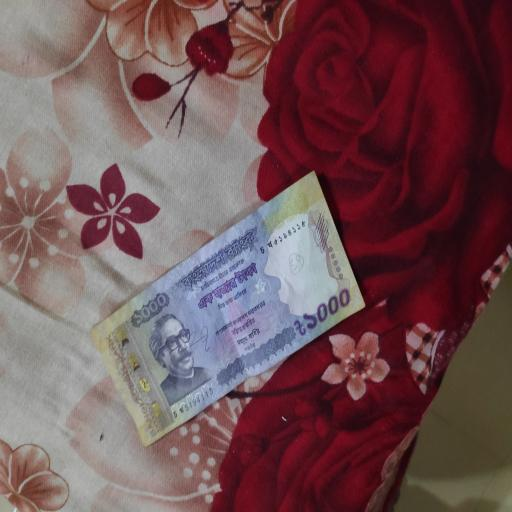1000taka: (91, 171, 366, 447)
